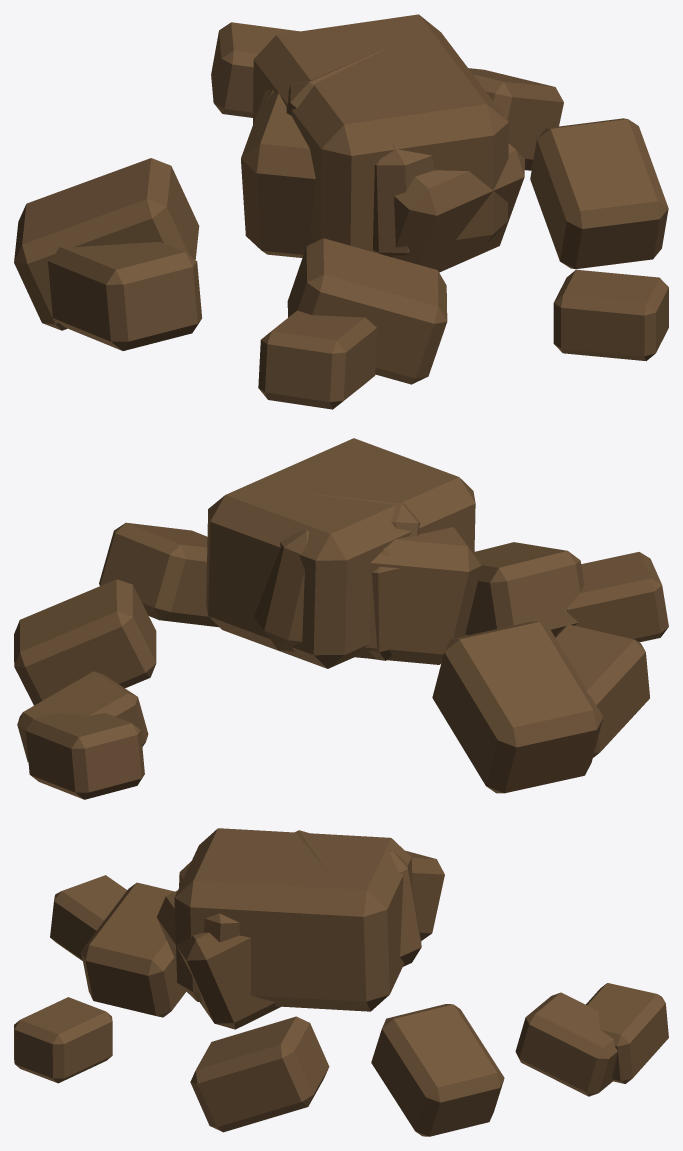
File: prop_rubble3_3004.glb
3 renders of one model, top to bottom at view 1: azimuth 30°, elevation 25°; view 2: azimuth 150°, elevation 25°; view 3: azimuth 270°, elevation 25°, orthographic. The views are drawn at different scales.
Parts seen in each view (by area): view 1: prop_rubble3_3004; view 2: prop_rubble3_3004; view 3: prop_rubble3_3004.
Part boxes in pixels (x1,y1,x2,y2): prop_rubble3_3004: (14,14,668,409); prop_rubble3_3004: (14,438,668,799); prop_rubble3_3004: (14,828,668,1136).
Size of the model in its own units: 0.8777 by 0.3143 by 1.01.
Materials: 1 (1 with a texture image).
